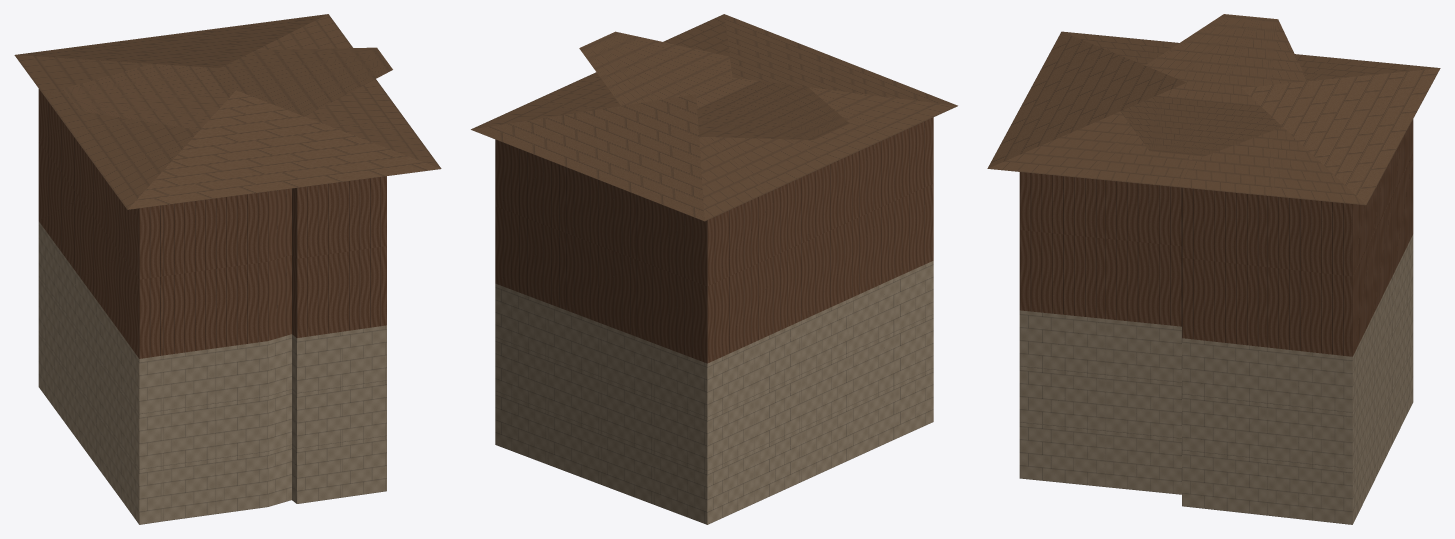
Rendered from bld_c30_-39_473.gltf.
3 renders of one model, left to right at view 1: azimuth 30°, elevation 25°; view 2: azimuth 150°, elevation 25°; view 3: azimuth 270°, elevation 25°, orthographic. The views are drawn at different scales.
Visible parts, largest first — view 1: bld_c30_-39_473; view 2: bld_c30_-39_473; view 3: bld_c30_-39_473.
Part boxes in pixels (x1,y1,x2,y2): bld_c30_-39_473: [14, 14, 441, 524]; bld_c30_-39_473: [471, 14, 957, 524]; bld_c30_-39_473: [987, 14, 1440, 524].
Size of the model in its own units: 11.23 by 10.9 by 12.37.
3 materials, 3 textured.
